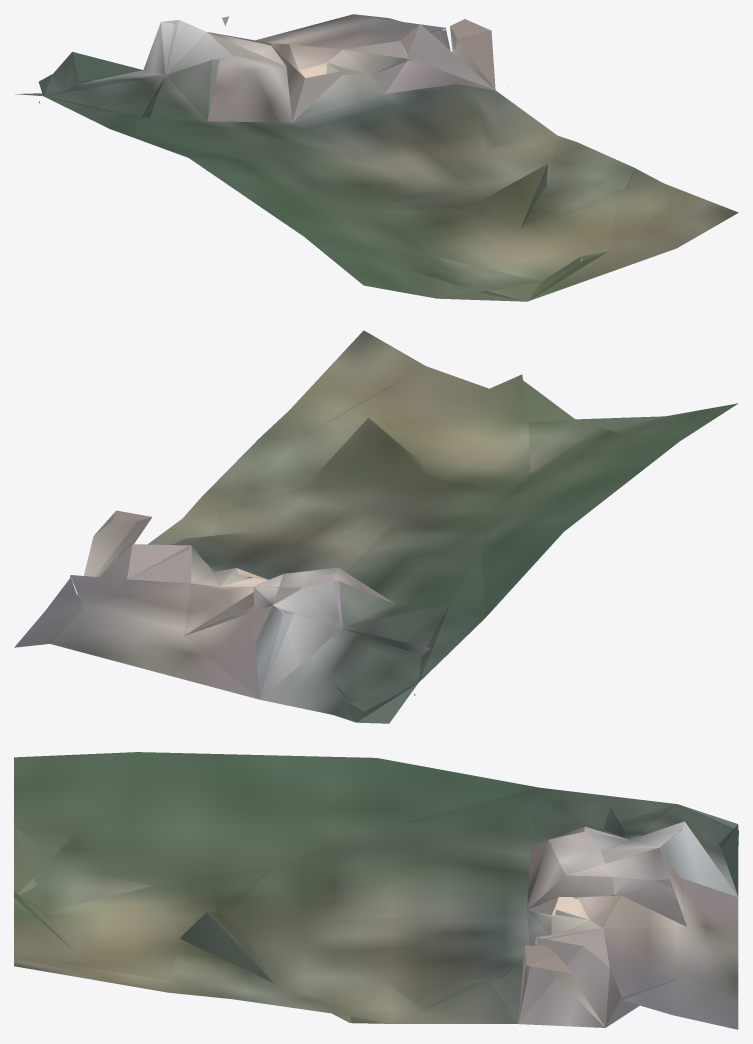
The model's file is Tile__006__002.glb.
The picture shows the model from 3 angles, top to bottom: view 1: azimuth 30°, elevation 25°; view 2: azimuth 150°, elevation 25°; view 3: azimuth 270°, elevation 25°; orthographic projection. The views are drawn at different scales.
Parts seen in each view (by area): view 1: root; view 2: root; view 3: root.
Boxes of the visible parts, <box> form: root: <box>15,14,738,301</box>; root: <box>14,330,738,723</box>; root: <box>14,752,738,1029</box>.
Size of the model in its own units: 62.64 by 13.89 by 101.
Materials: 1 (1 with a texture image).
